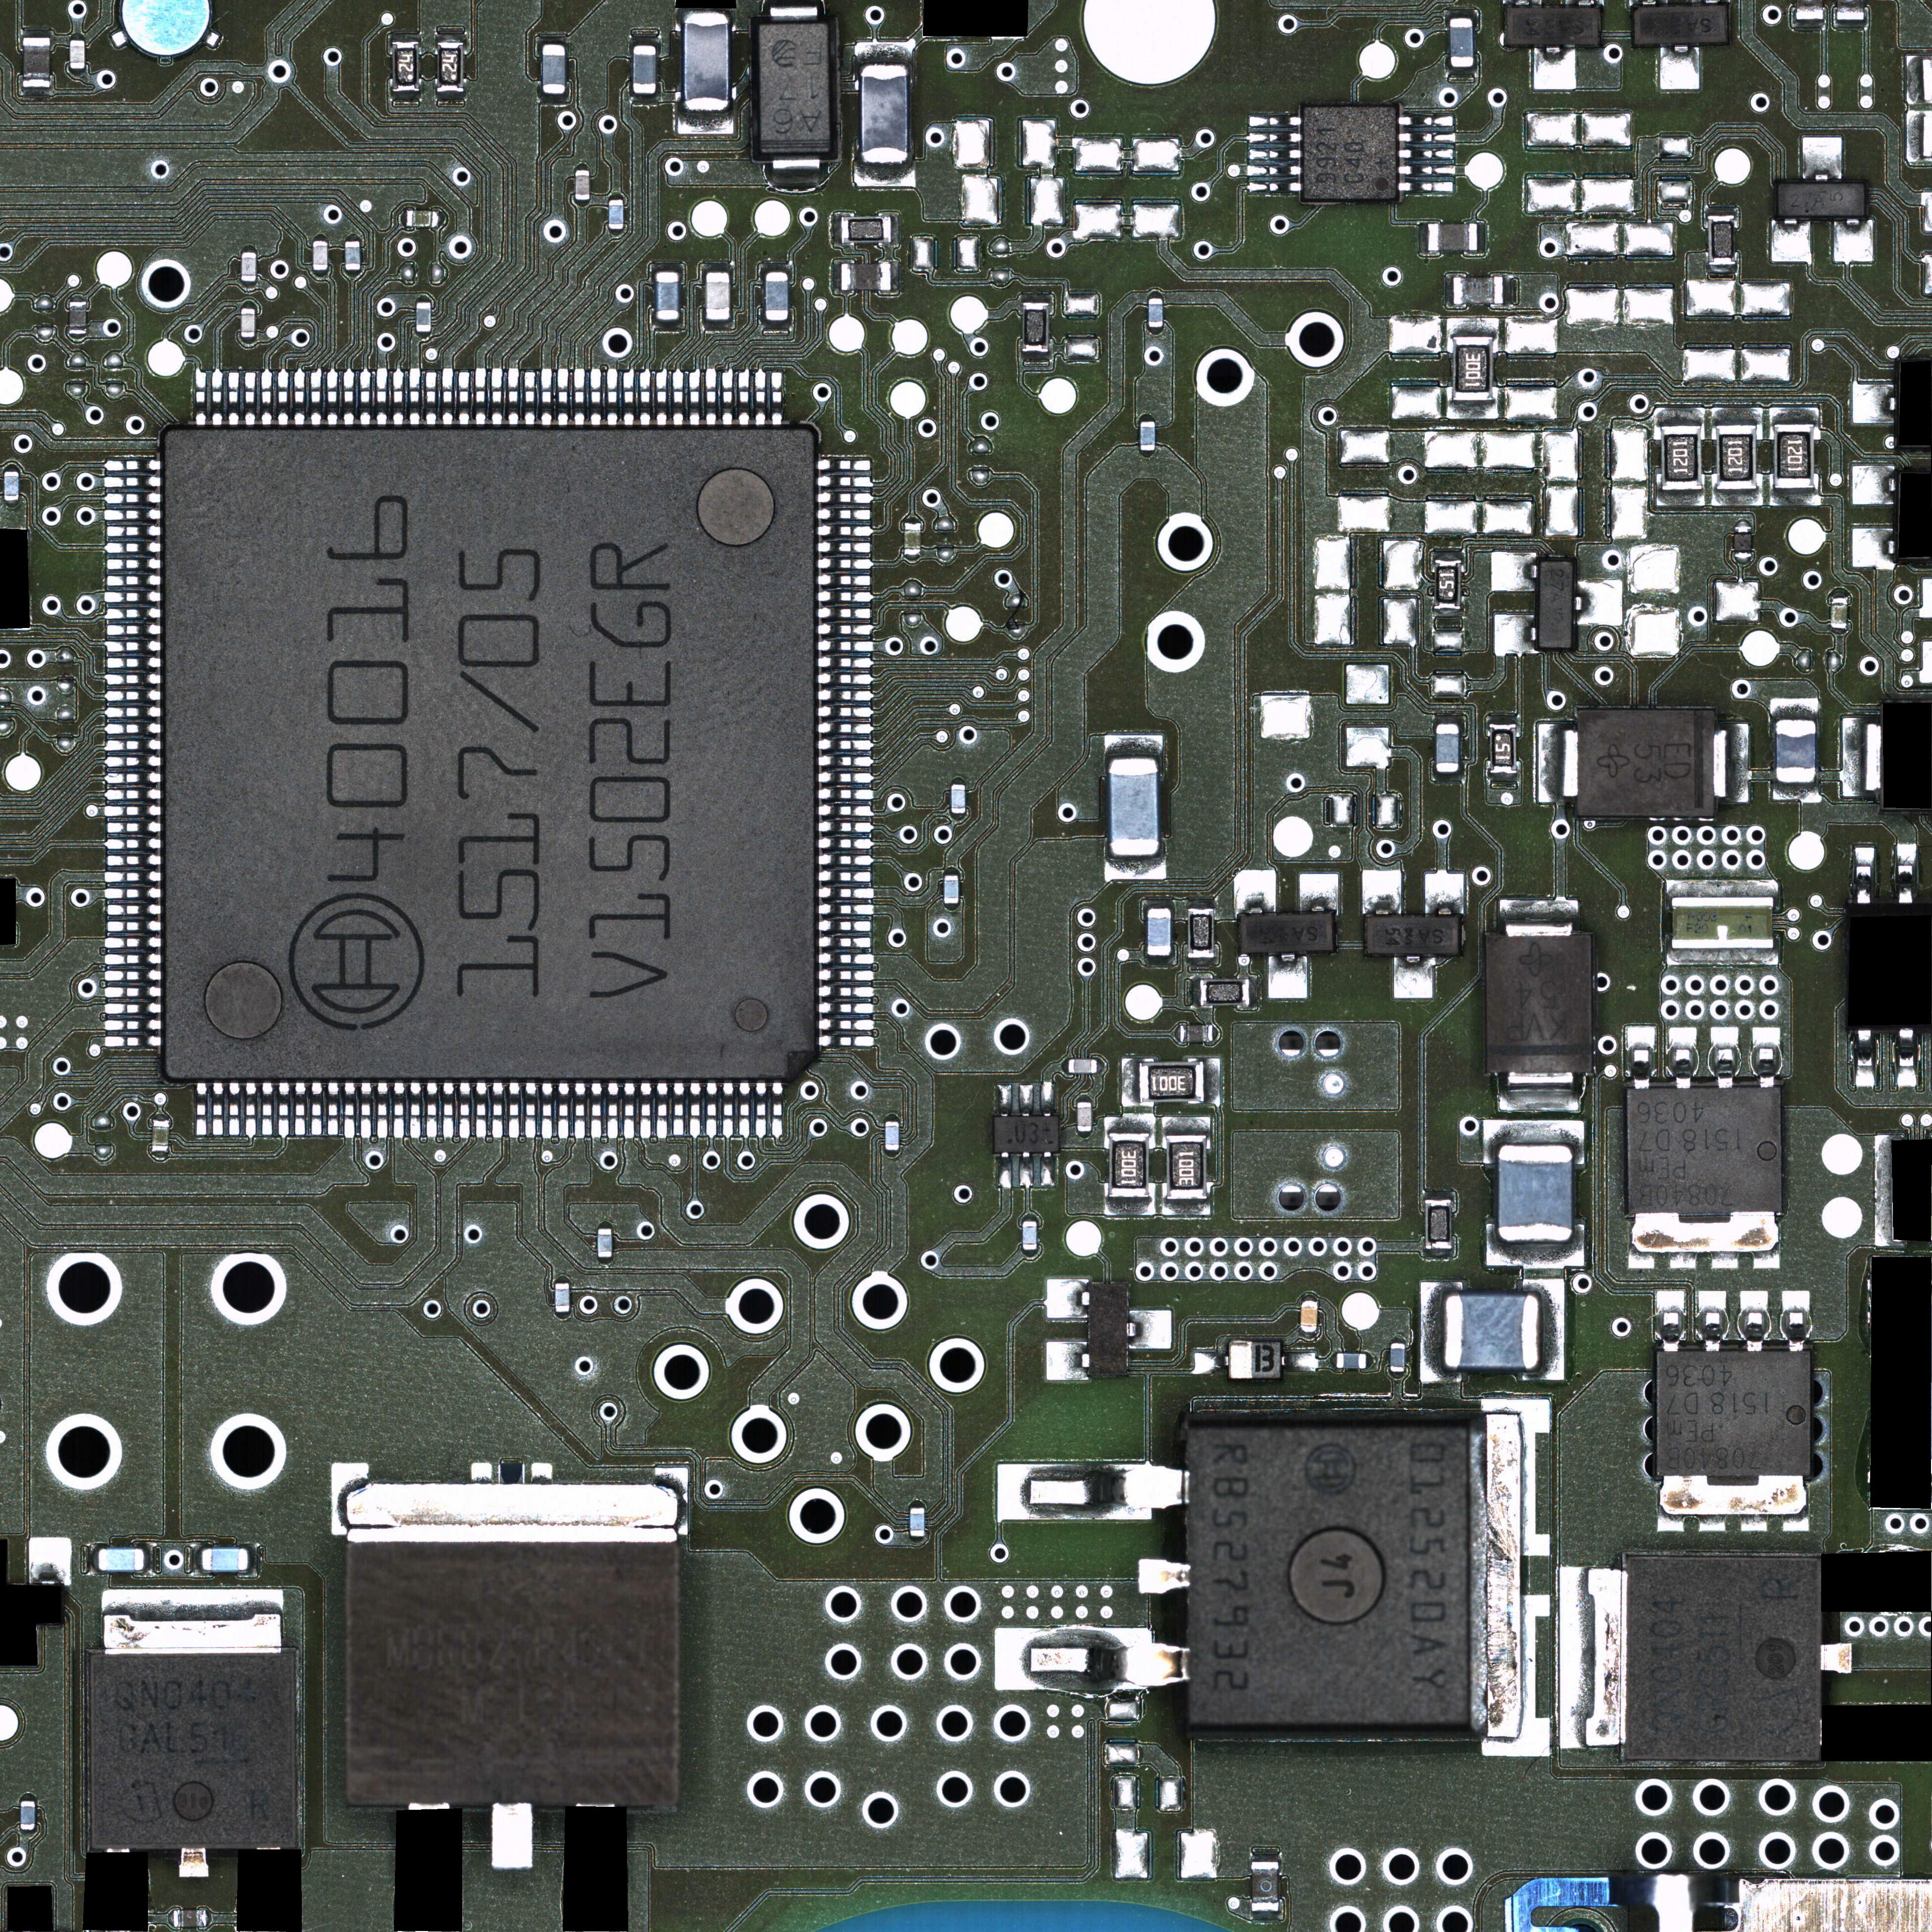Package: (163, 426, 816, 1079), (345, 1541, 678, 1805), (1194, 1424, 1467, 1729), (85, 1651, 301, 1847), (1626, 1555, 1819, 1760), (1622, 1088, 1783, 1217), (1658, 1352, 1810, 1476), (1578, 709, 1714, 817), (1486, 934, 1592, 1072), (757, 25, 830, 152), (1302, 104, 1396, 202), (1442, 1295, 1543, 1373), (1497, 1145, 1573, 1242), (1672, 899, 1773, 948), (1109, 759, 1159, 856), (862, 64, 908, 165), (683, 11, 729, 111), (1238, 913, 1334, 954), (1364, 916, 1460, 955), (1506, 7, 1601, 46), (1633, 5, 1729, 44), (1775, 180, 1868, 219), (1090, 1283, 1129, 1375), (1537, 559, 1573, 649), (1166, 1136, 1208, 1200), (1660, 426, 1702, 490), (1775, 718, 1815, 784), (1139, 1062, 1205, 1102), (1453, 336, 1493, 400), (1775, 425, 1815, 488), (1716, 426, 1757, 490), (1109, 1132, 1148, 1198), (994, 1116, 1060, 1152), (1230, 1341, 1281, 1380), (1433, 559, 1461, 610), (1424, 1200, 1453, 1249), (1490, 724, 1518, 773), (1454, 276, 1504, 304), (1200, 978, 1249, 1007), (1707, 216, 1736, 265), (1428, 223, 1477, 251), (435, 42, 464, 92), (1251, 1861, 1279, 1911), (840, 264, 892, 290), (840, 216, 892, 242), (23, 37, 50, 88), (1023, 303, 1049, 352), (1187, 908, 1214, 957), (393, 42, 419, 92), (541, 44, 566, 94), (1449, 18, 1474, 67), (655, 271, 679, 320), (764, 272, 789, 320), (633, 44, 656, 96), (1437, 724, 1460, 773), (1146, 909, 1171, 955), (706, 272, 729, 320), (97, 1548, 143, 1571), (202, 1548, 248, 1571), (904, 522, 922, 554), (1180, 1024, 1212, 1042), (1300, 1300, 1318, 1332), (407, 211, 439, 228), (69, 303, 87, 334), (152, 1120, 168, 1154), (1829, 598, 1847, 628), (343, 241, 361, 271), (173, 1911, 205, 1927), (950, 784, 966, 814), (1148, 297, 1164, 327), (575, 170, 591, 200), (609, 200, 625, 230), (416, 303, 432, 333), (241, 251, 257, 281), (4, 471, 19, 501), (1734, 527, 1752, 554), (1069, 1058, 1097, 1074), (1338, 1353, 1366, 1369), (69, 41, 85, 69), (1077, 1102, 1092, 1132), (885, 1122, 899, 1152), (1391, 1343, 1405, 1373), (241, 308, 255, 338), (313, 241, 327, 271), (598, 1228, 612, 1258), (556, 1283, 570, 1313), (1023, 1221, 1037, 1251), (1141, 423, 1155, 451), (945, 876, 959, 904), (909, 1507, 924, 1536), (21, 1801, 35, 1829)
Solder: (331, 1461, 690, 1539), (1481, 1399, 1550, 1757), (994, 1628, 1189, 1690), (996, 1461, 1189, 1522), (1559, 1568, 1622, 1748), (99, 1591, 283, 1647), (1499, 1072, 1580, 1113), (1537, 724, 1576, 801), (1842, 717, 1879, 796), (1499, 899, 1580, 934), (1714, 724, 1750, 803), (492, 1805, 533, 1868), (1483, 1120, 1583, 1145), (1486, 1242, 1585, 1267), (1706, 1026, 1743, 1088), (1624, 1024, 1658, 1088), (1543, 1279, 1564, 1380), (1665, 1028, 1700, 1088), (1748, 1028, 1783, 1088), (1695, 1292, 1730, 1352), (1736, 1292, 1771, 1352), (27, 1537, 73, 1583), (1575, 580, 1622, 625), (1780, 1292, 1813, 1352), (1665, 879, 1778, 897), (1667, 948, 1778, 966), (1656, 1290, 1688, 1352), (1875, 1134, 1893, 1246), (1532, 48, 1578, 90), (1421, 1283, 1440, 1382), (1138, 1559, 1191, 1594), (1771, 219, 1812, 265), (1833, 219, 1874, 265), (1233, 870, 1276, 913), (1852, 380, 1895, 423), (1660, 46, 1700, 90), (1269, 954, 1307, 1000), (1801, 136, 1842, 179), (1129, 1309, 1171, 1350), (1852, 529, 1895, 570), (1491, 552, 1536, 591), (1362, 870, 1401, 915), (1495, 614, 1536, 655), (1424, 874, 1465, 915), (1046, 1341, 1088, 1380), (1394, 955, 1433, 998), (1852, 467, 1895, 506), (1893, 842, 1920, 904), (1047, 1279, 1088, 1318), (1299, 874, 1339, 913), (1852, 844, 1877, 904), (1852, 1028, 1877, 1088), (1895, 1028, 1920, 1088), (773, 156, 819, 186), (1753, 1217, 1780, 1269), (1104, 858, 1166, 879), (1104, 736, 1164, 757), (1629, 1219, 1654, 1270), (856, 163, 916, 182), (858, 42, 913, 64), (676, 113, 734, 133), (770, 4, 819, 25), (1445, 317, 1499, 336), (1445, 400, 1499, 419), (1771, 697, 1819, 718), (1711, 407, 1762, 426), (1654, 407, 1704, 426), (1821, 1644, 1852, 1674), (177, 1849, 211, 1877), (1162, 1116, 1210, 1136), (1104, 1198, 1155, 1215), (1769, 407, 1819, 425), (1191, 1352, 1228, 1375), (1773, 784, 1821, 801), (1905, 110, 1921, 163), (341, 368, 356, 426), (817, 672, 876, 686), (817, 984, 876, 998), (1104, 1116, 1155, 1132), (720, 368, 734, 425), (407, 368, 421, 425), (639, 1083, 653, 1139), (573, 1083, 587, 1139), (409, 1083, 423, 1139), (359, 1083, 373, 1139), (292, 1081, 306, 1138), (104, 688, 161, 702), (104, 936, 161, 950), (817, 803, 874, 817), (817, 853, 874, 867), (1398, 147, 1454, 161), (1656, 490, 1706, 506), (1713, 490, 1762, 506), (226, 372, 241, 426), (226, 1083, 241, 1138), (1162, 1200, 1210, 1215), (1122, 1058, 1138, 1106), (1771, 490, 1819, 506), (1907, 57, 1923, 104), (456, 372, 471, 425), (817, 508, 870, 522), (817, 573, 870, 587), (1281, 1352, 1316, 1373), (540, 366, 552, 426), (310, 366, 322, 426), (1205, 1058, 1221, 1104), (672, 368, 685, 426), (655, 368, 667, 426), (623, 368, 635, 426), (474, 366, 487, 425), (441, 368, 453, 426), (359, 368, 372, 426), (260, 368, 272, 426), (195, 368, 207, 426), (755, 1083, 768, 1141), (607, 1083, 619, 1141), (393, 1081, 405, 1139), (278, 1083, 290, 1141), (244, 1081, 257, 1139), (103, 607, 161, 619), (103, 640, 161, 653), (103, 706, 161, 718), (103, 970, 161, 982), (103, 1035, 161, 1047), (817, 639, 876, 651), (817, 755, 876, 768), (817, 886, 876, 899), (817, 1019, 876, 1031), (1244, 131, 1302, 143), (1398, 131, 1456, 143), (1398, 165, 1456, 177), (573, 368, 586, 425), (490, 368, 502, 425), (375, 368, 387, 425), (294, 368, 306, 425), (722, 1083, 734, 1139), (656, 1083, 669, 1139), (623, 1083, 635, 1139), (591, 1083, 603, 1139), (557, 1083, 570, 1139), (524, 1083, 536, 1139), (508, 1083, 520, 1139), (492, 1083, 504, 1139), (474, 1083, 487, 1139), (458, 1083, 471, 1139), (442, 1083, 455, 1139), (377, 1083, 389, 1139), (343, 1083, 356, 1139), (104, 591, 161, 603), (104, 722, 161, 734), (104, 755, 161, 768), (104, 805, 161, 817), (104, 870, 161, 883), (104, 886, 161, 899), (104, 920, 161, 932), (104, 952, 161, 964), (104, 1019, 161, 1031), (817, 492, 874, 504), (817, 525, 874, 538), (817, 557, 874, 570), (817, 591, 874, 603), (817, 607, 874, 619), (817, 688, 874, 701), (817, 722, 874, 734), (817, 771, 874, 784), (817, 787, 874, 800), (817, 821, 874, 833), (817, 837, 874, 849), (817, 952, 874, 964), (817, 968, 874, 980), (819, 1001, 876, 1014), (1246, 165, 1302, 177), (1398, 115, 1454, 127), (1398, 180, 1454, 193), (771, 372, 784, 426), (672, 1083, 685, 1138), (327, 1083, 340, 1138), (260, 1083, 272, 1138), (195, 1083, 207, 1138), (106, 557, 161, 570), (106, 821, 161, 833), (106, 904, 161, 916), (817, 541, 872, 554), (819, 623, 874, 635), (817, 870, 872, 883), (819, 904, 874, 916), (817, 936, 872, 948), (524, 372, 536, 425), (425, 372, 437, 425), (244, 372, 257, 425), (310, 1083, 322, 1136), (212, 1083, 225, 1136), (817, 458, 870, 471), (819, 920, 872, 932), (607, 366, 617, 426), (557, 366, 568, 426), (706, 366, 717, 425), (690, 366, 701, 425), (640, 368, 651, 426), (591, 368, 602, 426), (508, 366, 518, 425), (393, 368, 403, 426), (278, 368, 288, 426), (212, 368, 223, 426), (740, 1081, 750, 1139), (706, 1083, 717, 1141), (103, 494, 161, 504), (103, 541, 161, 552), (103, 658, 161, 669), (103, 674, 161, 685), (103, 773, 161, 784), (103, 789, 161, 800), (103, 839, 161, 849), (103, 987, 161, 998), (817, 656, 876, 667), (817, 740, 876, 750), (755, 368, 766, 425), (327, 370, 338, 426), (771, 1083, 782, 1139), (690, 1083, 701, 1139), (541, 1083, 552, 1139), (426, 1083, 437, 1139), (104, 460, 161, 471), (104, 478, 161, 488), (104, 510, 161, 520), (104, 740, 161, 750), (104, 1003, 161, 1014), (817, 476, 874, 487), (817, 706, 874, 717), (1246, 182, 1302, 193), (996, 1152, 1012, 1189), (1019, 1152, 1035, 1189), (106, 525, 161, 536), (106, 575, 161, 586), (106, 625, 161, 635), (106, 855, 161, 865), (819, 1035, 874, 1046), (1247, 115, 1302, 126), (1247, 149, 1302, 159), (1711, 1251, 1739, 1269), (740, 368, 748, 425), (1040, 1152, 1054, 1187), (1782, 1516, 1810, 1532), (998, 1085, 1012, 1116), (1019, 1085, 1033, 1116), (1040, 1085, 1054, 1116), (1698, 1516, 1725, 1532), (1658, 1516, 1684, 1532), (1670, 1253, 1697, 1269), (1741, 1516, 1767, 1530), (701, 262, 734, 272), (1504, 274, 1514, 308), (653, 320, 685, 331), (1021, 352, 1053, 363), (18, 88, 55, 97), (832, 258, 840, 295), (1419, 1191, 1456, 1200), (1419, 1249, 1456, 1258), (1141, 957, 1178, 966), (143, 1541, 152, 1578), (193, 1541, 202, 1578), (391, 32, 421, 42), (1417, 223, 1428, 253), (759, 320, 794, 329), (1249, 975, 1258, 1010), (1249, 1913, 1284, 1921), (1486, 773, 1522, 782), (628, 35, 662, 44), (1445, 9, 1479, 18), (832, 212, 840, 246), (892, 260, 901, 294), (759, 264, 793, 272), (249, 1545, 258, 1578), (1431, 715, 1465, 724), (1486, 715, 1520, 724), (1835, 19, 1868, 28), (23, 28, 55, 37), (391, 92, 423, 101), (534, 35, 566, 44), (702, 320, 734, 329), (1706, 207, 1737, 216), (1477, 223, 1486, 255), (1249, 1852, 1281, 1861), (1792, 19, 1824, 28), (435, 34, 465, 42), (1707, 265, 1737, 274), (1021, 294, 1051, 303), (88, 1545, 97, 1575), (1184, 959, 1221, 966), (1192, 973, 1200, 1010), (649, 264, 685, 271), (892, 212, 899, 248), (1187, 899, 1215, 908), (1433, 550, 1461, 559), (1431, 775, 1467, 782), (435, 94, 469, 101), (538, 96, 571, 103), (1445, 274, 1453, 308), (1141, 901, 1175, 908), (630, 96, 660, 103), (908, 1499, 927, 1507), (1445, 69, 1477, 74), (1433, 610, 1463, 616), (1734, 518, 1752, 527), (1734, 556, 1752, 564), (1097, 1058, 1106, 1076), (1021, 1251, 1039, 1260), (1021, 1212, 1039, 1221), (908, 1536, 925, 1545), (19, 1792, 37, 1801), (1299, 1332, 1320, 1339), (885, 1113, 901, 1122), (943, 867, 959, 876), (1829, 628, 1849, 635), (902, 515, 922, 522), (150, 1154, 170, 1161), (69, 69, 87, 76), (69, 32, 87, 39), (1146, 329, 1164, 336), (1829, 591, 1847, 598), (439, 211, 446, 228), (400, 211, 407, 228), (573, 200, 591, 207), (554, 1313, 571, 1320), (1391, 1334, 1405, 1343), (1300, 1293, 1318, 1300), (1148, 290, 1164, 297), (416, 294, 432, 301), (241, 301, 257, 308), (241, 338, 257, 345), (71, 334, 87, 341), (1139, 414, 1155, 421), (1139, 451, 1155, 458), (885, 1152, 901, 1159), (241, 244, 257, 251), (241, 281, 257, 288), (345, 234, 361, 241), (345, 271, 361, 278), (575, 163, 591, 170), (4, 464, 19, 471), (152, 1113, 168, 1120), (943, 904, 959, 911), (596, 1221, 612, 1228), (554, 1276, 570, 1283), (1214, 1024, 1219, 1044), (313, 234, 327, 241), (313, 271, 327, 278), (609, 193, 623, 200), (1062, 1060, 1069, 1074), (609, 230, 623, 237), (1391, 1373, 1405, 1380), (596, 1258, 614, 1263), (1368, 1352, 1373, 1369), (1330, 1352, 1336, 1369), (952, 777, 964, 784), (416, 333, 432, 338), (69, 295, 85, 301), (904, 556, 920, 561), (4, 502, 19, 508), (1175, 1026, 1180, 1042), (950, 814, 966, 819), (207, 1911, 212, 1927), (168, 1911, 173, 1927), (19, 1831, 35, 1836), (1077, 1095, 1092, 1100), (1077, 1132, 1092, 1138)
